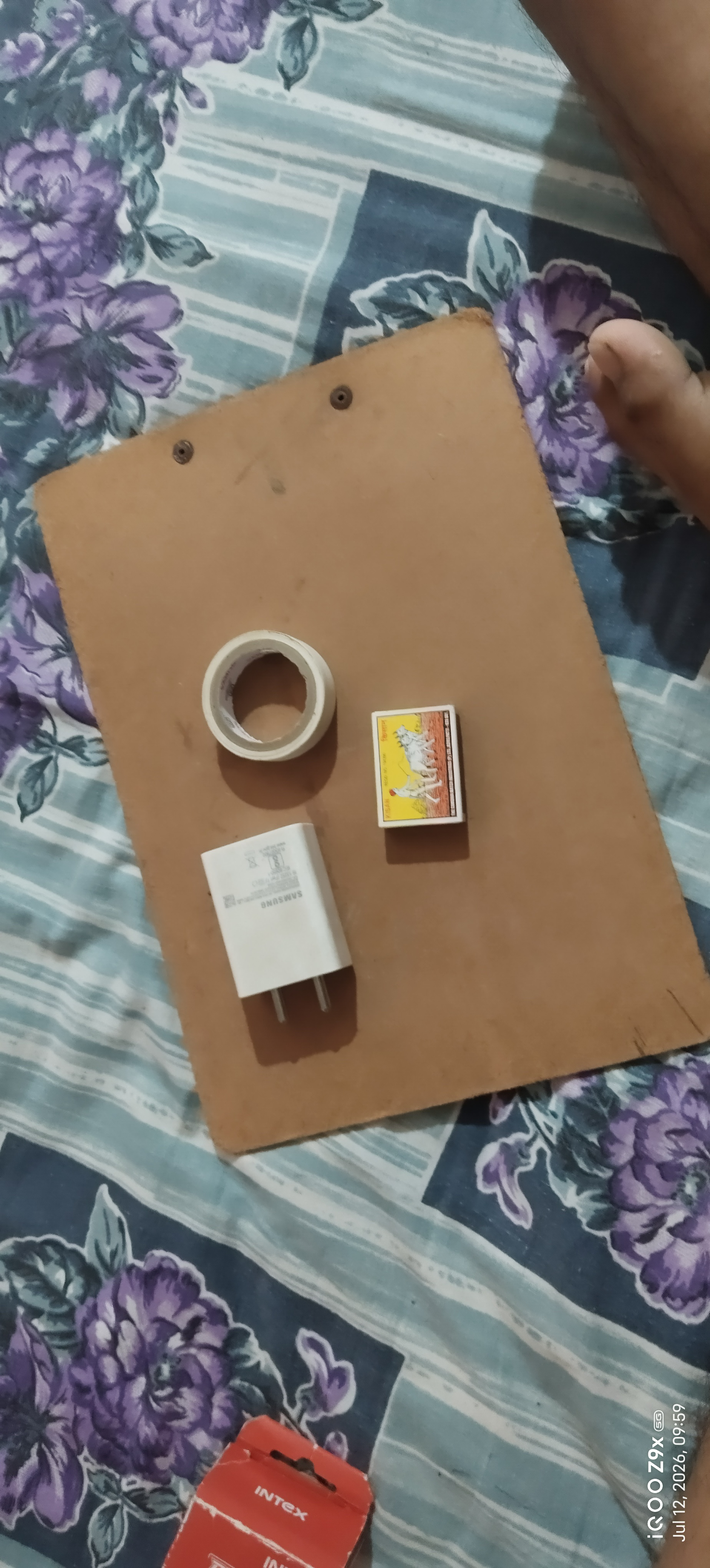charger: (194, 819, 367, 1035)
matchbox: (363, 700, 476, 835)
tape_roll: (189, 619, 342, 783)
